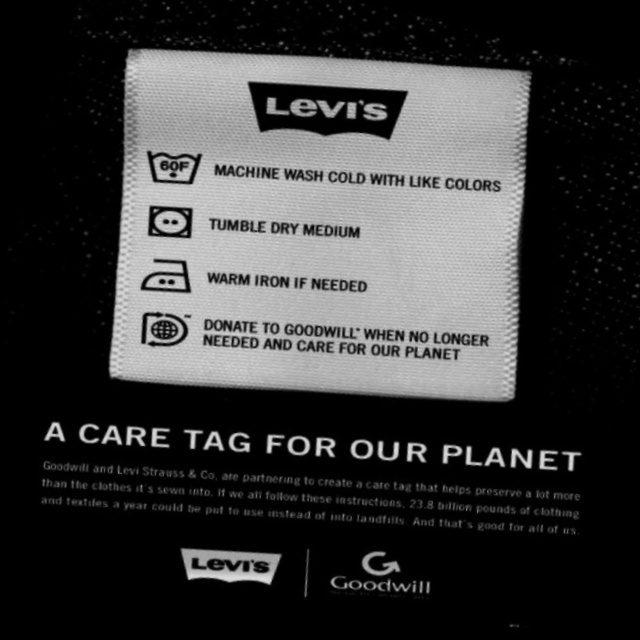30C: (132, 127, 218, 205)
iron_medium: (127, 239, 209, 313)
tumble_dry_medium: (132, 190, 208, 257)
